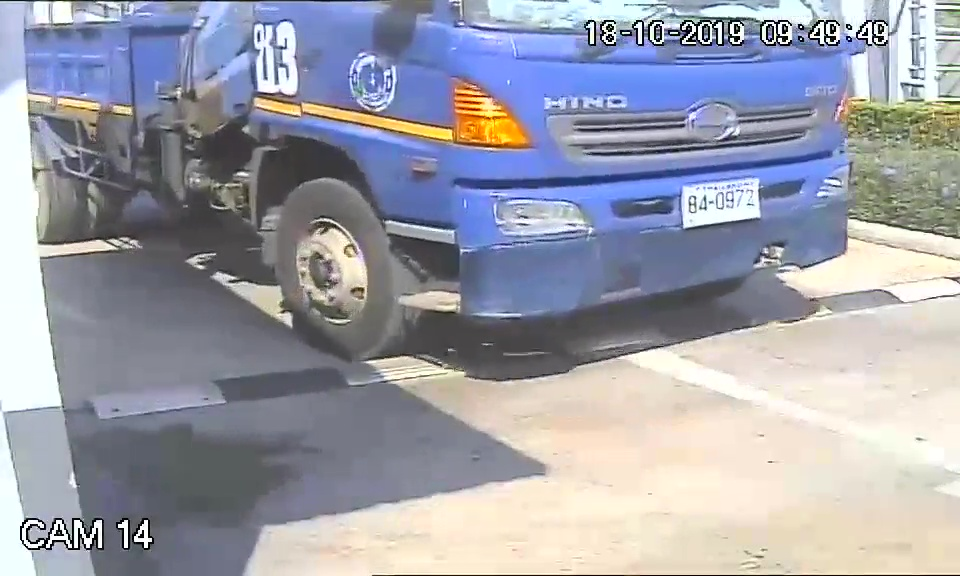truck: (154, 2, 862, 362)
